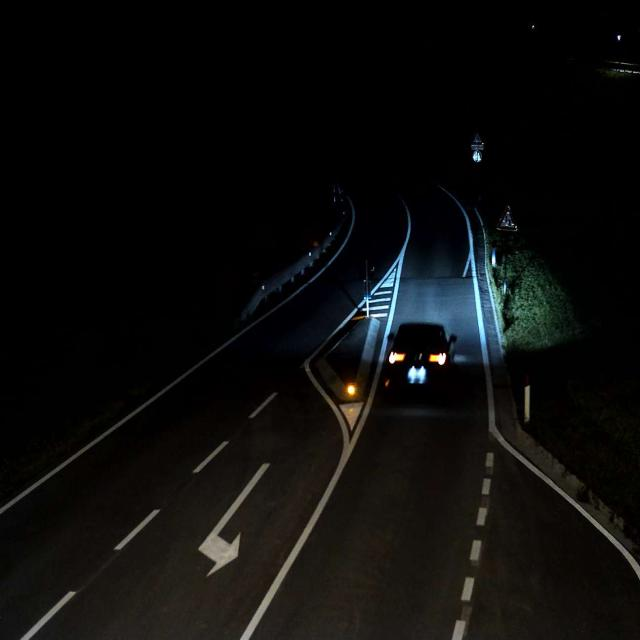car: (384, 321, 457, 397)
